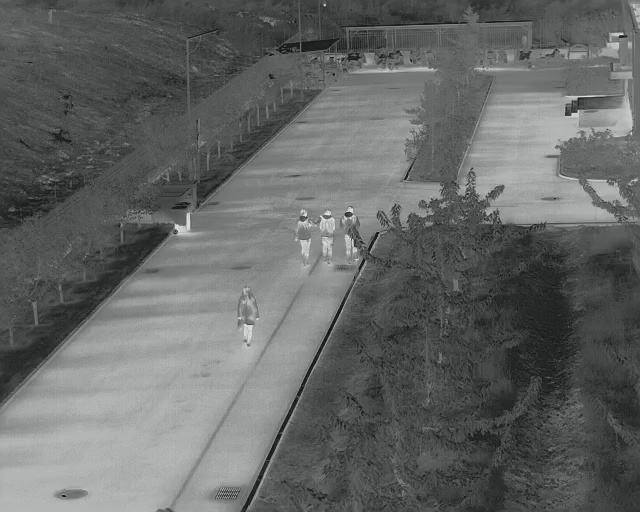person: (234, 284, 263, 349), (293, 206, 318, 267), (340, 203, 360, 264), (319, 208, 336, 265)
